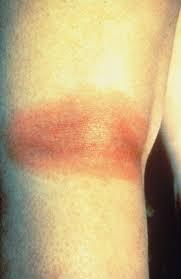Tick: (11, 97, 148, 182)
